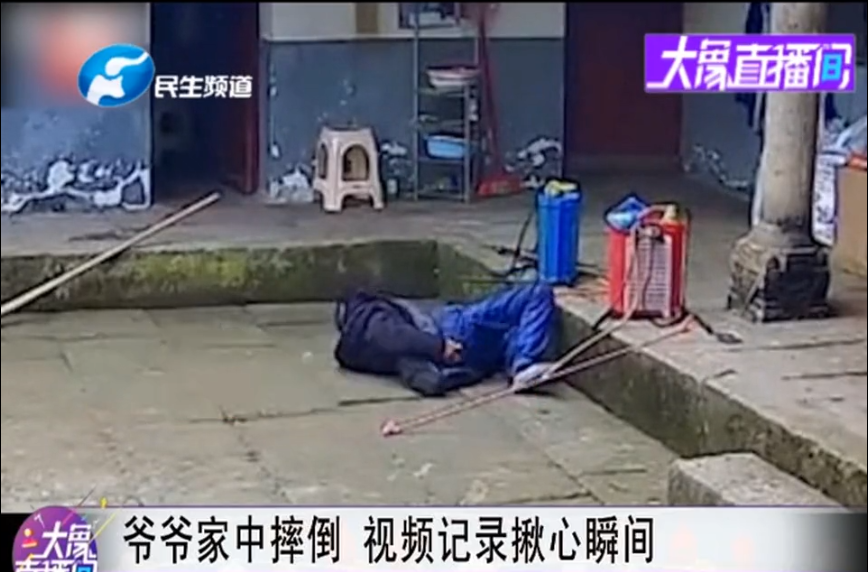fall: (327, 282, 568, 396)
